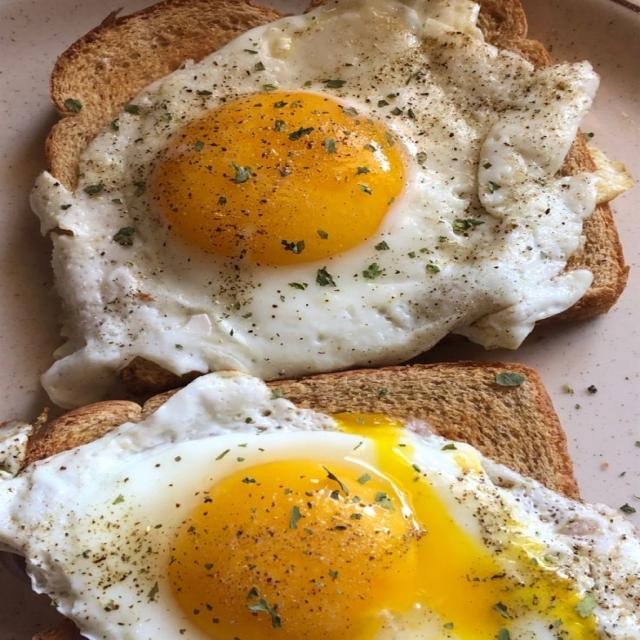fryed egg: (33, 0, 597, 405), (0, 372, 639, 639)
sliced bread: (46, 0, 283, 187), (46, 0, 284, 186), (268, 361, 578, 498), (23, 389, 177, 466), (543, 204, 628, 323), (557, 205, 627, 321), (475, 0, 550, 66), (477, 0, 552, 66), (123, 358, 187, 393), (477, 0, 525, 45), (123, 361, 179, 390), (310, 0, 328, 10)
